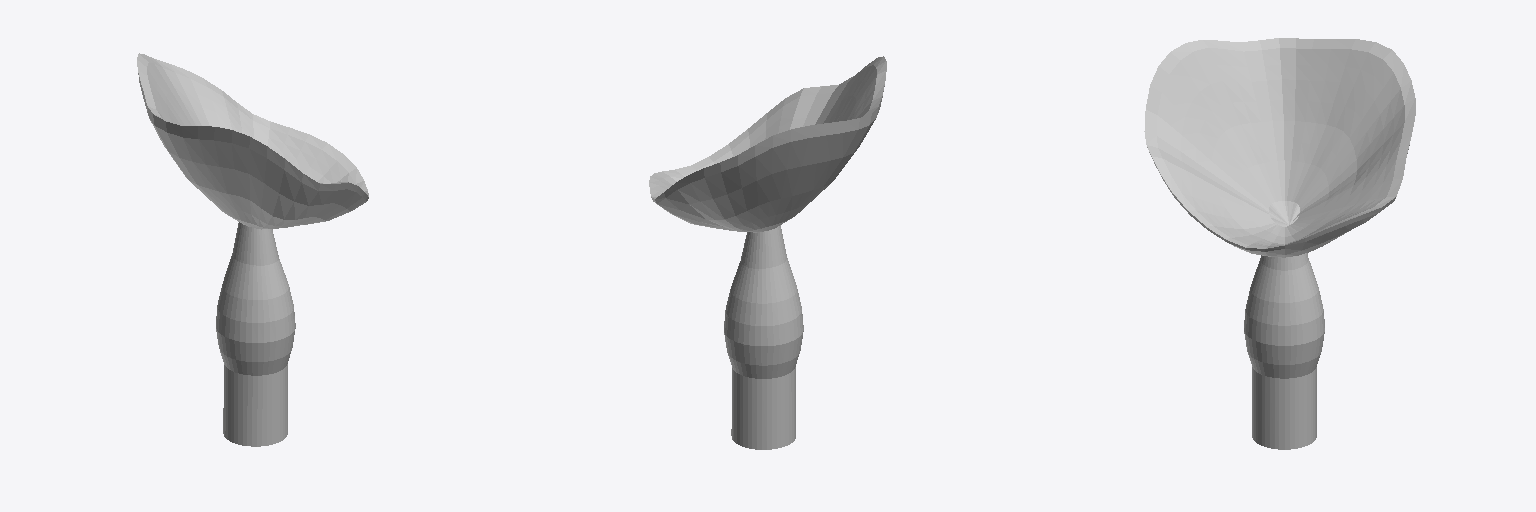
Rendered from sculpture 3.obj.
3 views of the same model, side by side, from view 1: azimuth 30°, elevation 25°; view 2: azimuth 150°, elevation 25°; view 3: azimuth 270°, elevation 25° (orthographic).
Visible parts, largest first — view 1: pCylinder1_pCylinder1; view 2: pCylinder1_pCylinder1; view 3: pCylinder1_pCylinder1.
Boxes of the visible parts, box(x1,y1,x2,y2) form: pCylinder1_pCylinder1: box(137, 53, 368, 446); pCylinder1_pCylinder1: box(649, 56, 886, 449); pCylinder1_pCylinder1: box(1144, 38, 1415, 449).
Size of the model in its own units: 7.29 by 12.06 by 8.27.